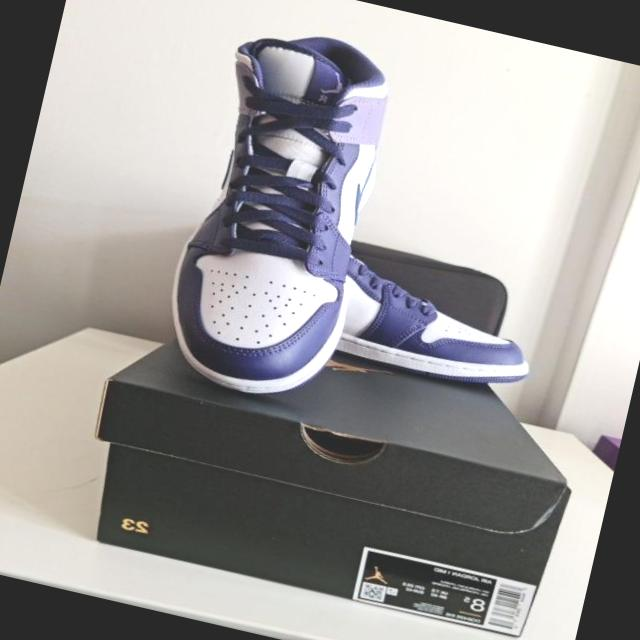nike_original_jordan: (152, 8, 414, 408), (316, 256, 544, 398)
